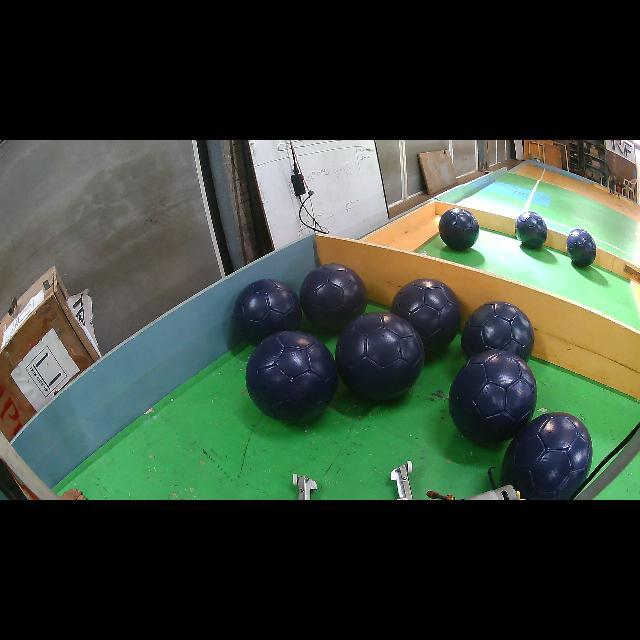B: (246, 330, 338, 422), (449, 350, 536, 445), (502, 414, 594, 500), (336, 311, 424, 400), (391, 279, 461, 354), (300, 262, 368, 331), (464, 302, 536, 364), (234, 279, 301, 344), (439, 208, 480, 251), (515, 211, 548, 249), (566, 229, 596, 268)
